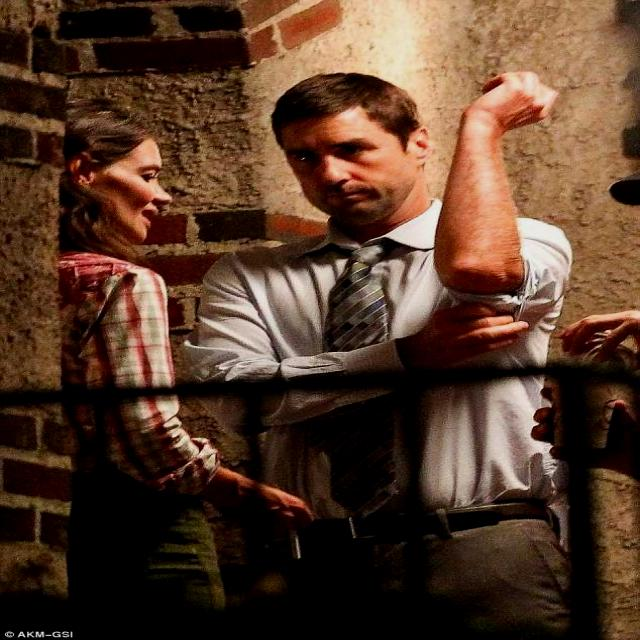Smooking: (287, 524, 309, 563)
